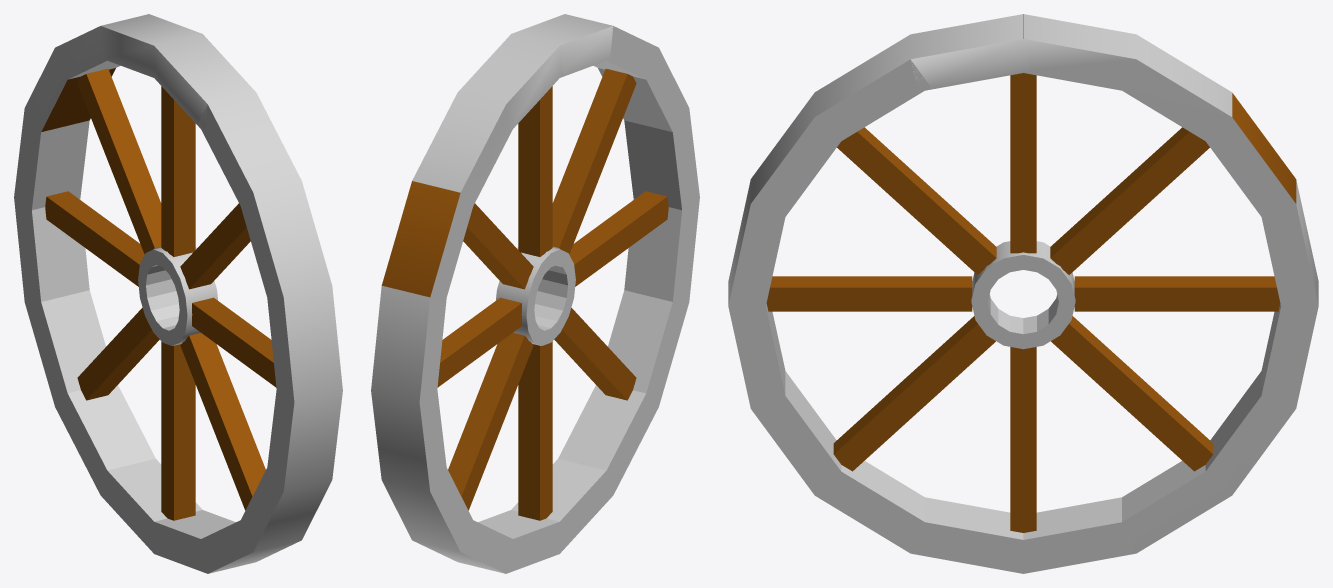
The model's file is rueda.fbx.
3 renders of one model, left to right at view 1: azimuth 30°, elevation 25°; view 2: azimuth 150°, elevation 25°; view 3: azimuth 270°, elevation 25°, orthographic. The views are drawn at different scales.
Parts seen in each view (by area): view 1: Wheel.001; view 2: Wheel.001; view 3: Wheel.001.
Part boxes in pixels (left/top/right/bottom): Wheel.001: left=14, top=14, right=342, bottom=573; Wheel.001: left=371, top=14, right=699, bottom=573; Wheel.001: left=728, top=14, right=1318, bottom=573.
Size of the model in its own units: 44.29 by 443 by 443.
